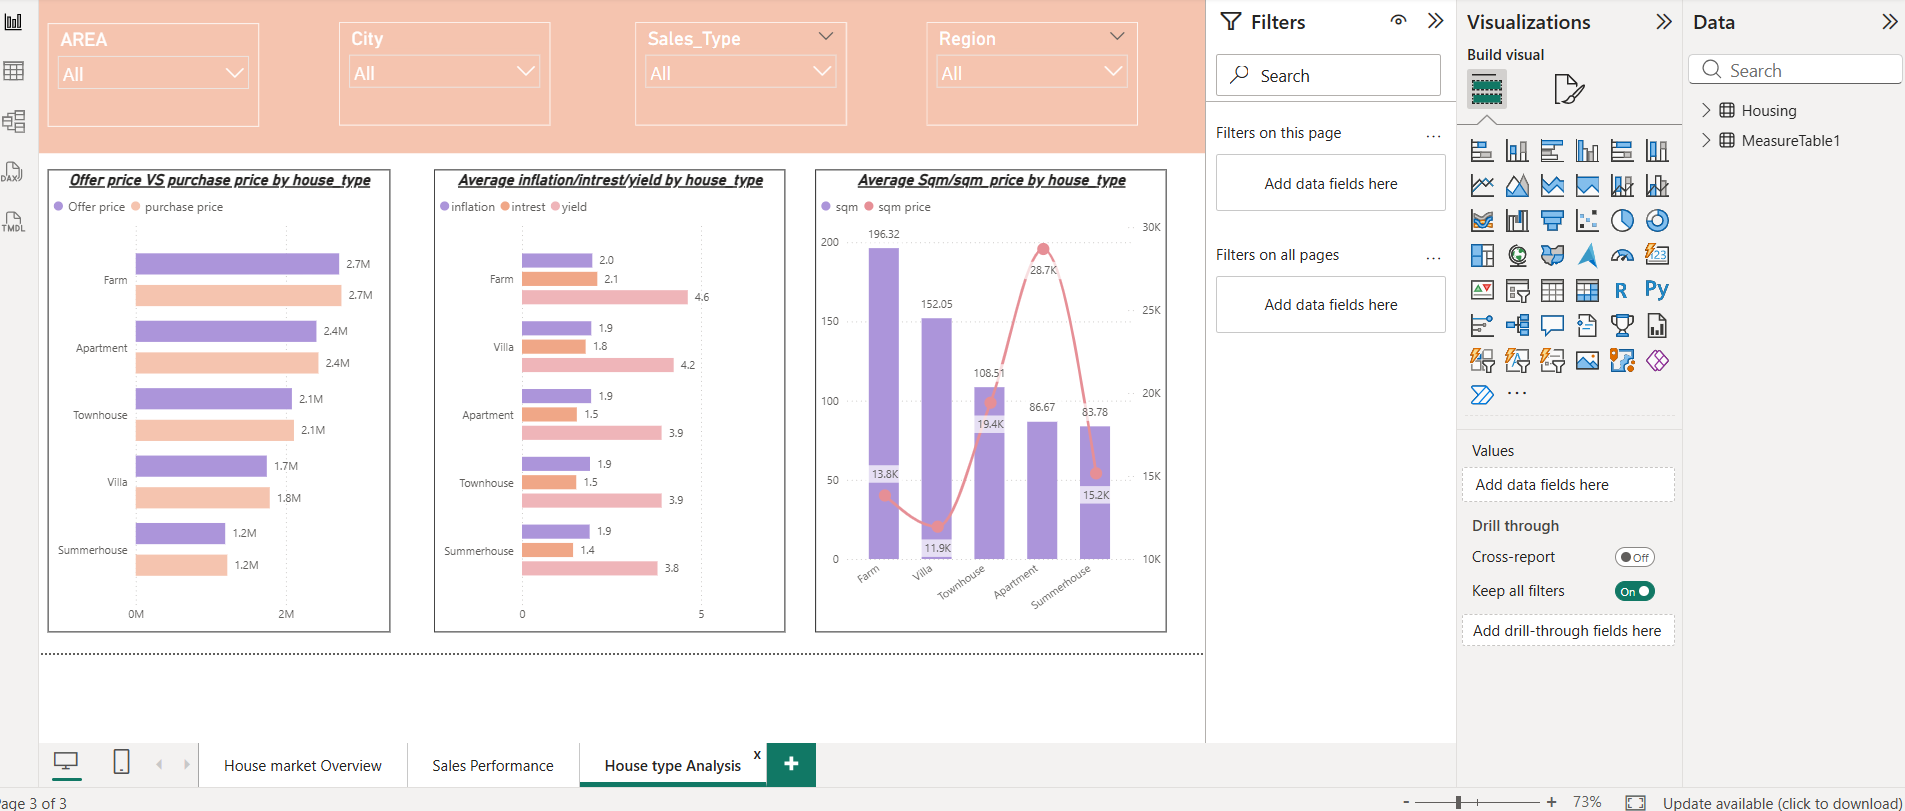

The page's visual inventory and layout, read from the dashboard file:
{"tool":"powerbi","page":{"name":"House type Analysis","canvas":[1280,720],"ordinal":2},"visuals":[{"type":"shape","box":[0,1.4,1280.3,170.2],"z":0},{"type":"clusteredBarChart","title":" Offer price VS  purchase price by house_type","fields":{"Category":["Housing.house_type"],"Y":["Avg(Housing.Offer price)","Avg(Housing.purchase_price)"]},"box":[9.6,189.4,376,507.7],"z":1000},{"type":"clusteredBarChart","title":" Average inflation/intrest/yield by house_type","fields":{"Category":["Housing.house_type"],"Y":["Avg(Housing.dk_ann_infl_rate%)","Avg(Housing.nom_interest_rate%)","Avg(Housing.yield_on_mortgage_credit_bonds%)"]},"box":[433.6,189.4,385.6,507.7],"z":2000},{"type":"lineStackedColumnComboChart","title":" Average Sqm/sqm_price by house_type","fields":{"Category":["Housing.house_type"],"Y":["Avg(Housing.sqm)"],"Y2":["Avg(Housing.sqm_price)"]},"box":[852.1,189.4,385.6,507.7],"z":3000},{"type":"slicer","fields":{"Values":["Housing.area"]},"box":[9.6,28.8,231.9,113.9],"z":4000},{"type":"slicer","fields":{"Values":["Housing.city"]},"box":[329.3,27.4,231.9,113.9],"z":5000},{"type":"slicer","fields":{"Values":["Housing.sales_type"]},"box":[654.5,27.4,231.9,113.9],"z":6000},{"type":"slicer","fields":{"Values":["Housing.region"]},"box":[974.3,27.4,231.9,113.9],"z":7000}]}

Visuals, with their boxes on the page's 1280x720 design canvas (x1, y1, x2, y2). These are canvas units, not pixel positions in the 1905x811 screenshot, which may show the page scaled, cropped or inside an application window:
shape: [x1=0, y1=1, x2=1280, y2=172]
" Offer price VS  purchase price by house_type" clusteredBarChart: [x1=10, y1=189, x2=386, y2=697]
" Average inflation/intrest/yield by house_type" clusteredBarChart: [x1=434, y1=189, x2=819, y2=697]
" Average Sqm/sqm_price by house_type" lineStackedColumnComboChart: [x1=852, y1=189, x2=1238, y2=697]
slicer - Housing.area: [x1=10, y1=29, x2=242, y2=143]
slicer - Housing.city: [x1=329, y1=27, x2=561, y2=141]
slicer - Housing.sales_type: [x1=654, y1=27, x2=886, y2=141]
slicer - Housing.region: [x1=974, y1=27, x2=1206, y2=141]
